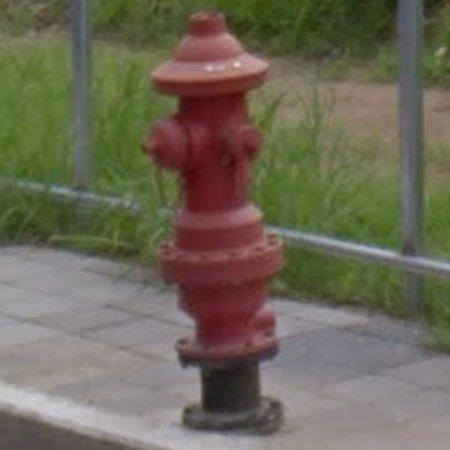a fire hydrant: (145, 13, 283, 436)
